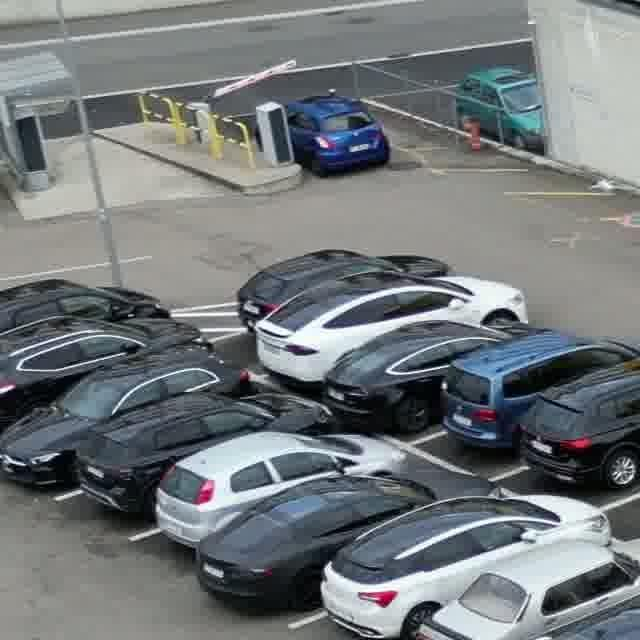Drohne: (589, 178, 617, 193)
